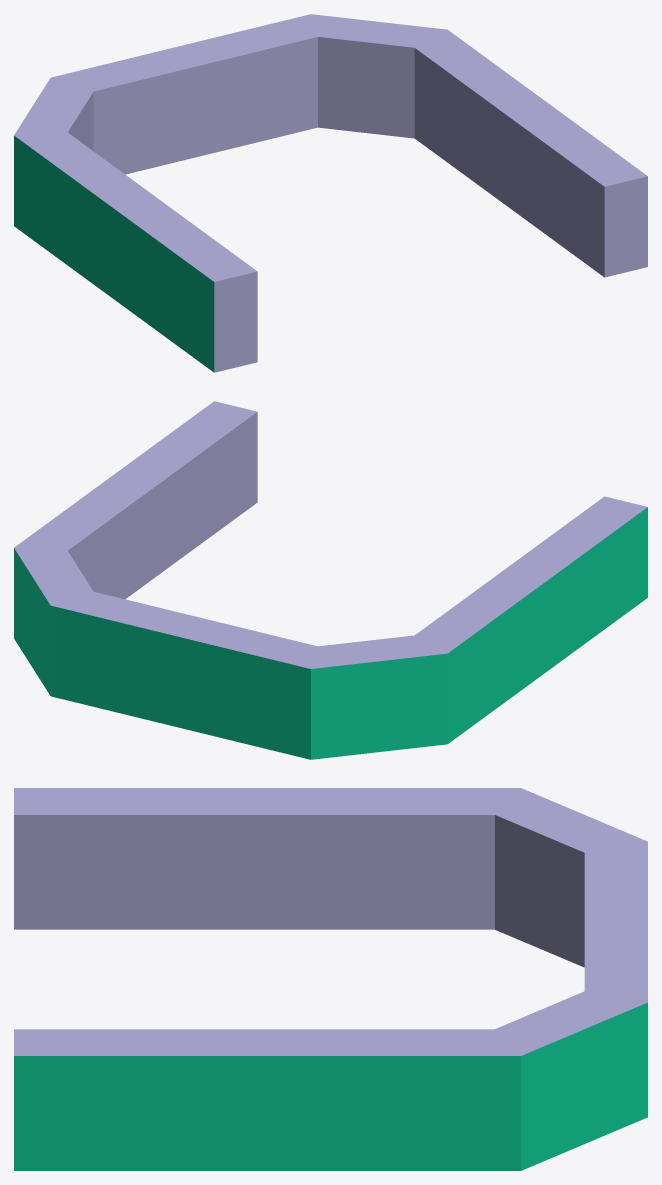
Rendered from Wall.fbx.
The picture shows the model from 3 angles, top to bottom: view 1: azimuth 30°, elevation 25°; view 2: azimuth 150°, elevation 25°; view 3: azimuth 270°, elevation 25°; orthographic projection. The views are drawn at different scales.
Visible parts, largest first — view 1: mergedBlocks; view 2: mergedBlocks; view 3: mergedBlocks.
Part boxes in pixels (<box>): mergedBlocks: <box>14,14,647,372</box>; mergedBlocks: <box>14,401,647,759</box>; mergedBlocks: <box>14,788,647,1170</box>.
Bounding box in the file's own units: 10 × 2 × 10.
